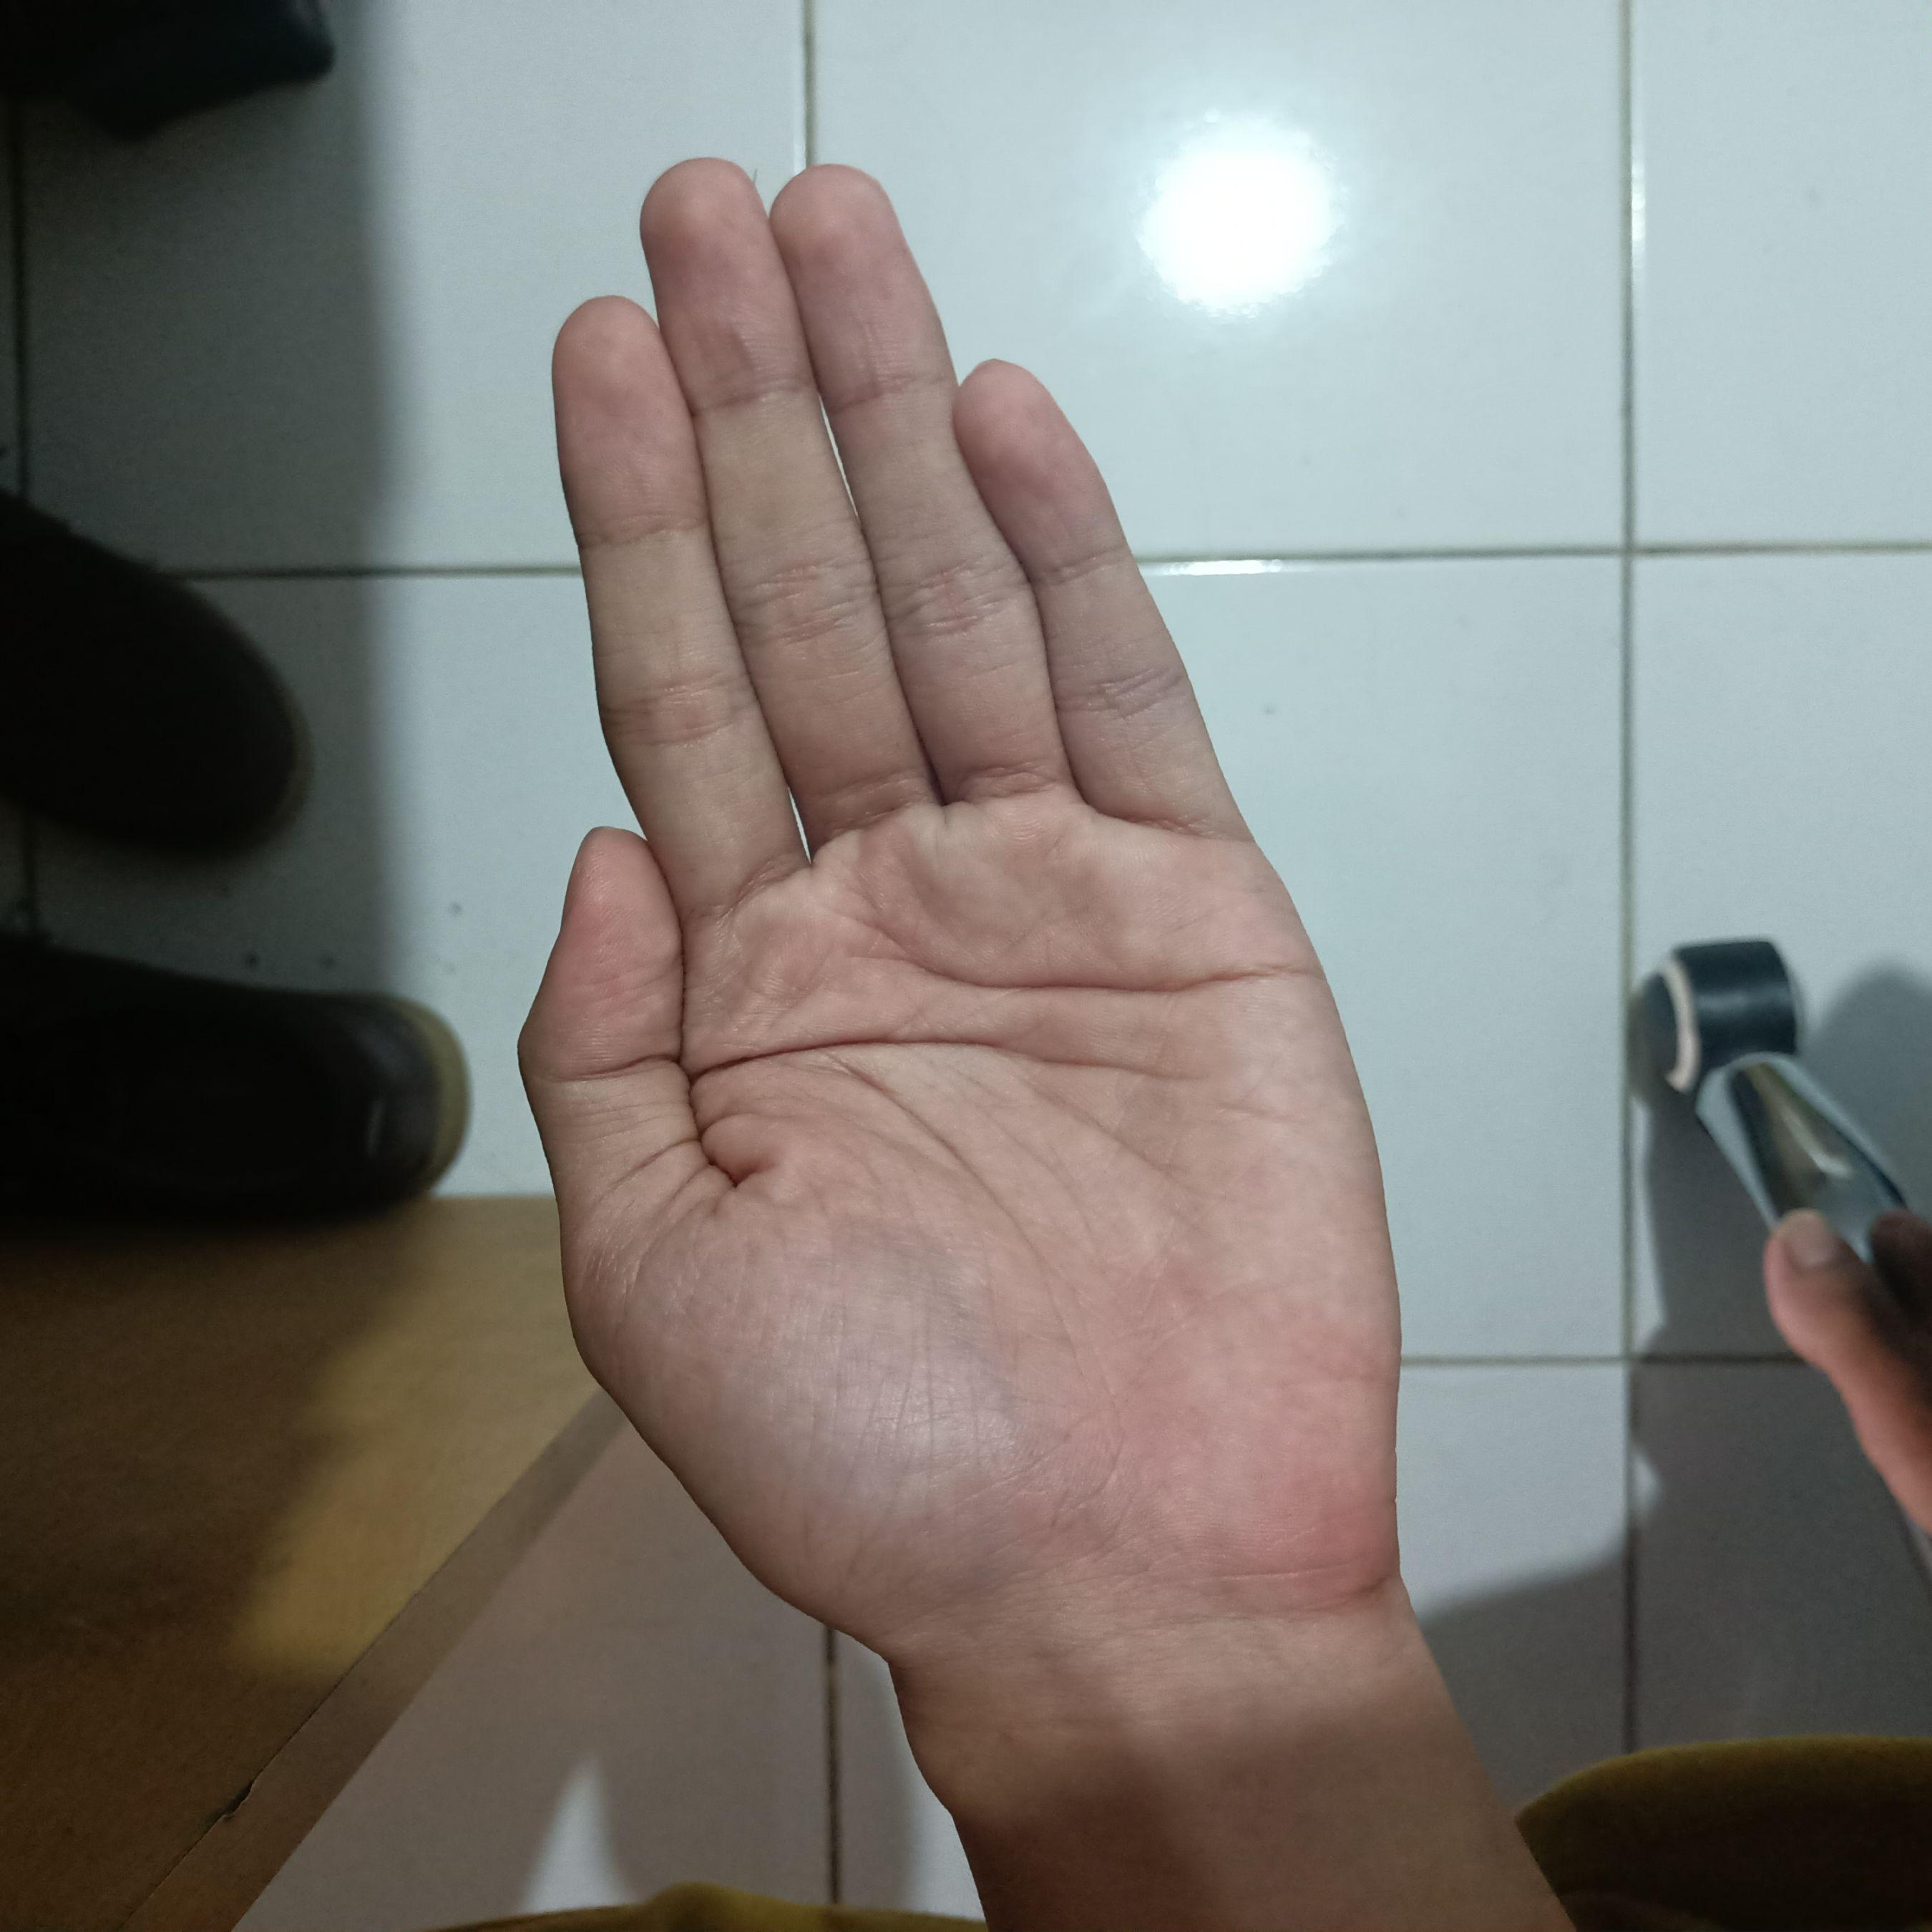paper: (490, 136, 1415, 1741)
